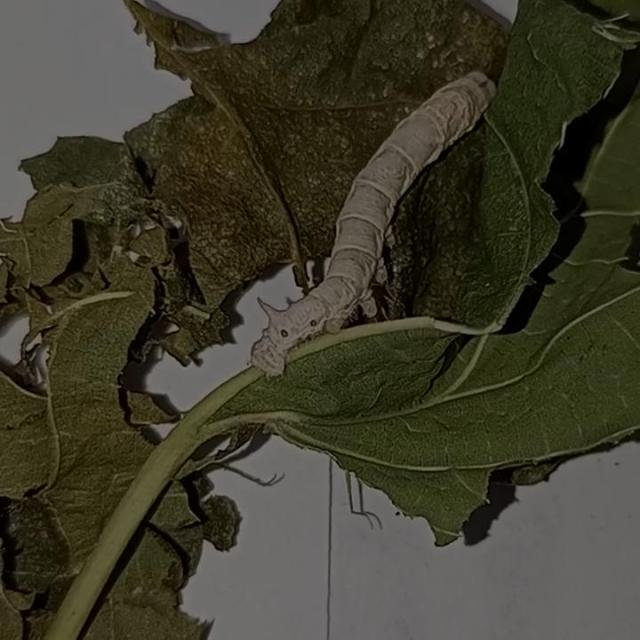Healthy: (244, 59, 499, 402)
